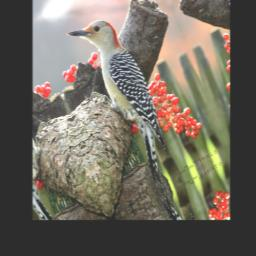Woodpecker: (62, 1, 184, 208)
